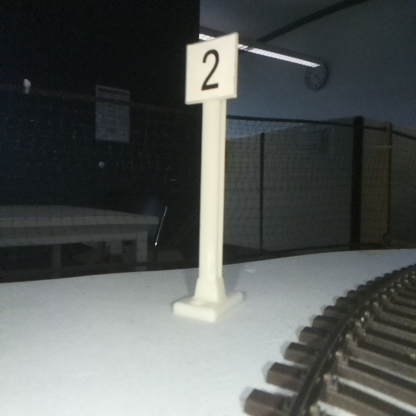white-info-2: (185, 36, 236, 313)
